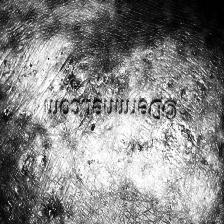Non-Cancerous Skin Condition: (12, 126, 224, 224), (0, 0, 182, 88), (187, 5, 224, 117)
